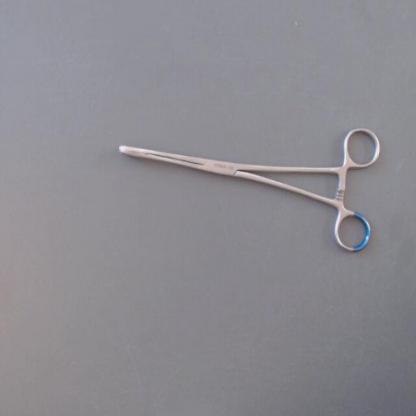Sponge Forceps: (115, 118, 386, 260)
